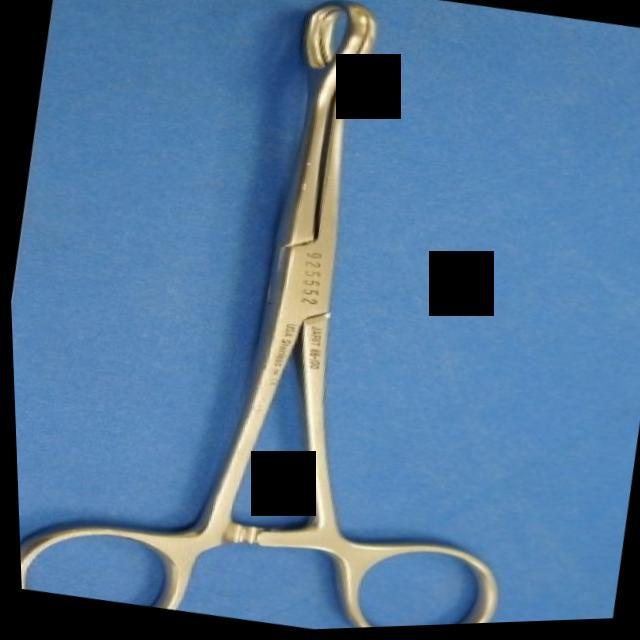Sponge Holding Forceps: (0, 0, 592, 640)
